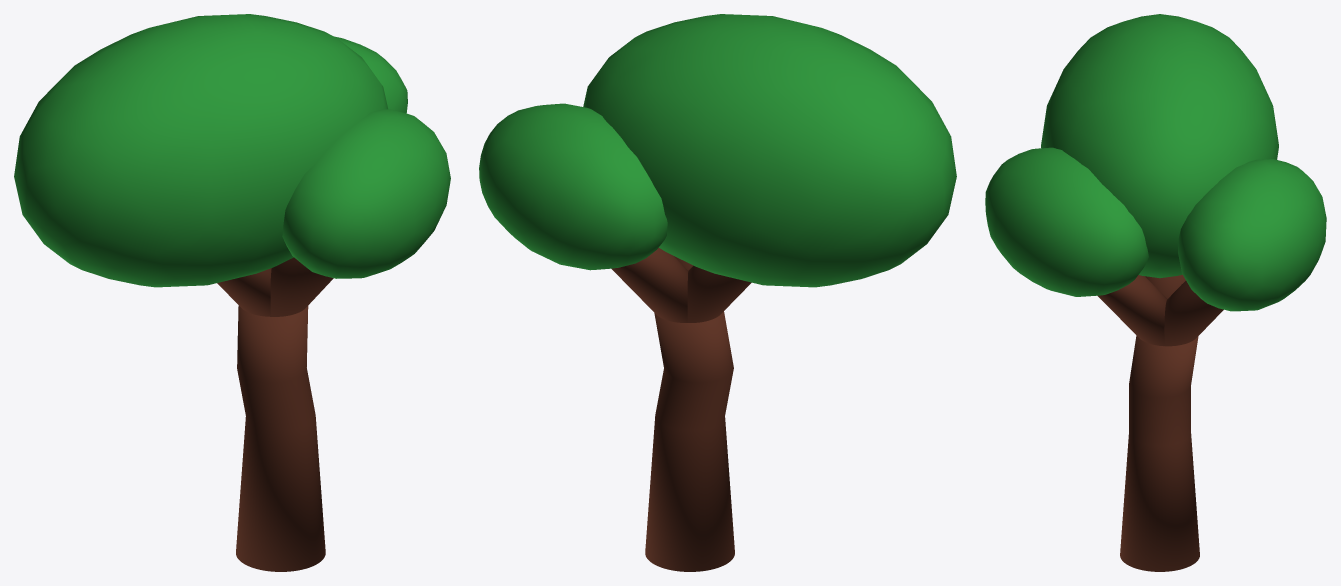
The model's file is Tree_1.fbx.
3 renders of one model, left to right at view 1: azimuth 30°, elevation 25°; view 2: azimuth 150°, elevation 25°; view 3: azimuth 270°, elevation 25°, orthographic. The views are drawn at different scales.
Visible parts, largest first — view 1: Tree; view 2: Tree; view 3: Tree.
Part boxes in pixels (left/top/right/bottom): Tree: left=14, top=14, right=450, bottom=571; Tree: left=479, top=14, right=956, bottom=571; Tree: left=985, top=14, right=1326, bottom=571.
Size of the model in its own units: 554 by 692 by 443.
